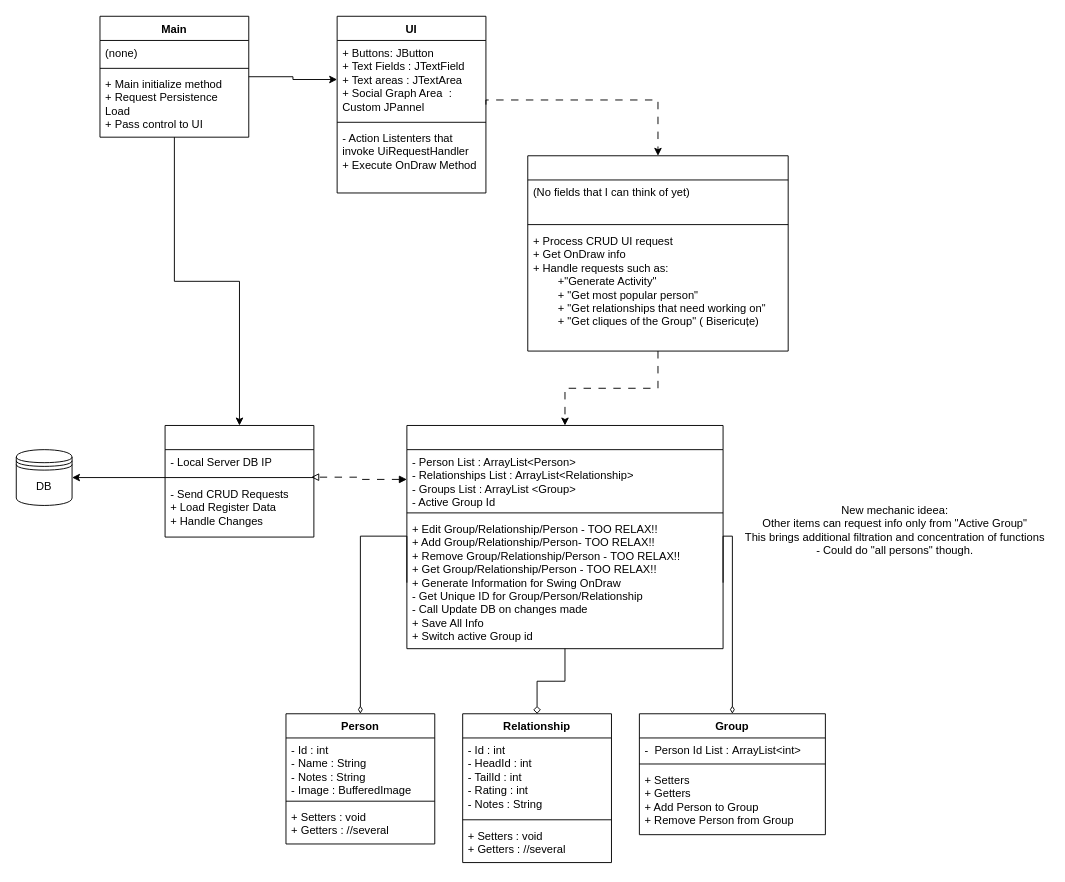
The diagram is 1065 pixels wide and 882 high, and some of its shapes have lost their labels. Each missing label, with the box of its shape:
Peristence: (164, 425, 314, 537)
Register: (406, 425, 723, 649)
UiRequestHandler: (527, 155, 788, 351)
